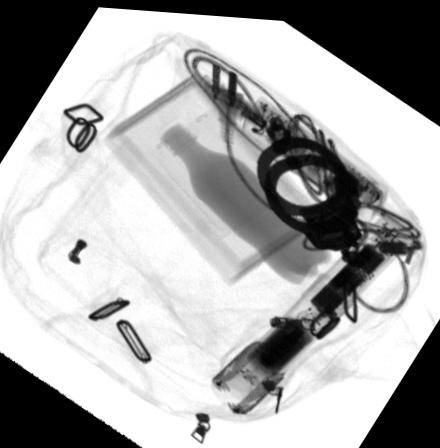Baton: (208, 211, 408, 413)
HandCuffs: (253, 132, 363, 262)
